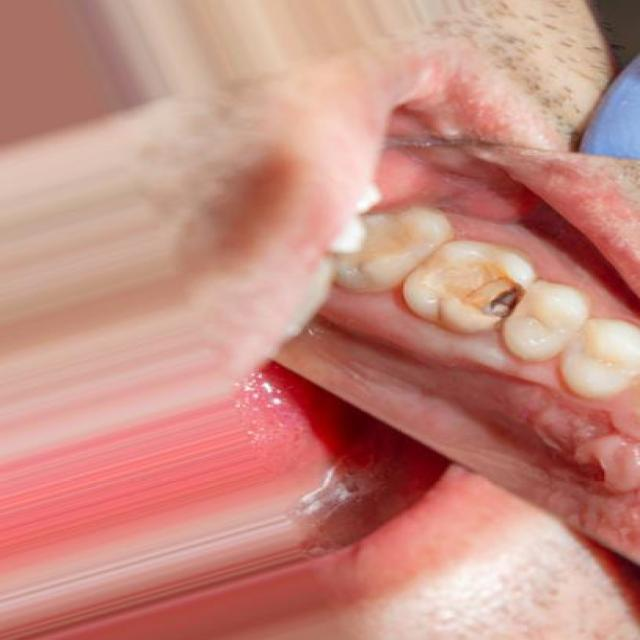caries: (427, 250, 549, 334)
